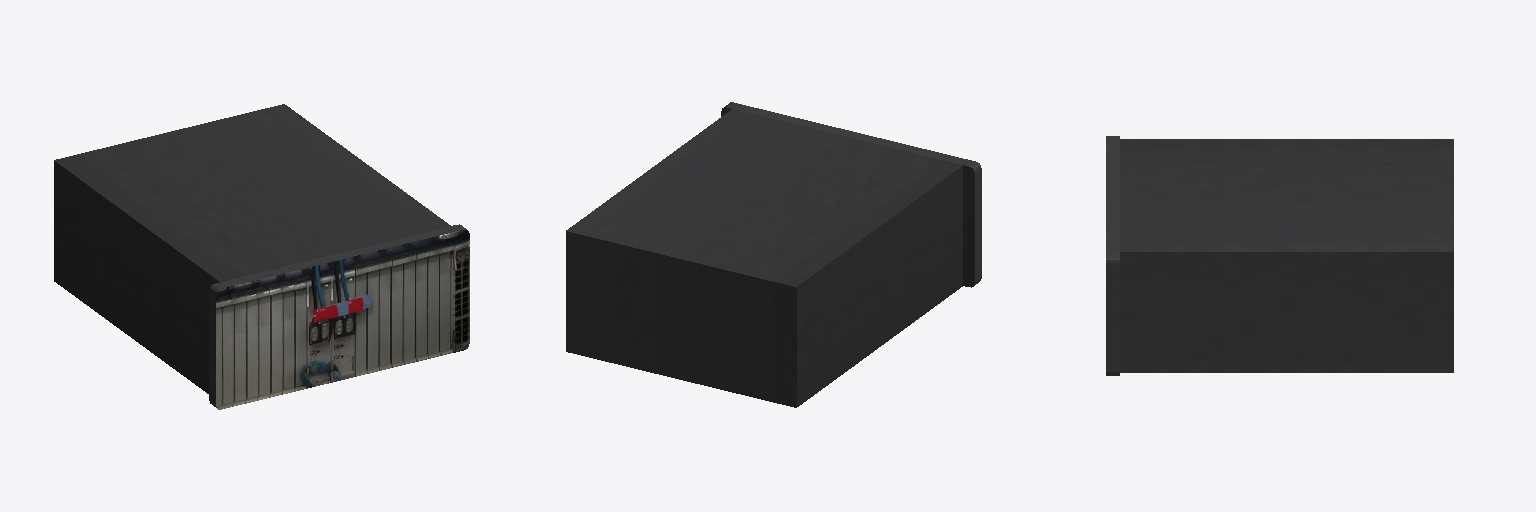
3 views of the same model, side by side, from view 1: azimuth 30°, elevation 25°; view 2: azimuth 150°, elevation 25°; view 3: azimuth 270°, elevation 25° (orthographic).
Parts seen in each view (by area): view 1: Box001; view 2: Box001; view 3: Box001.
Part boxes in pixels (x1,y1,x2,y2): Box001: (54, 104, 469, 409); Box001: (566, 102, 981, 407); Box001: (1106, 136, 1453, 375).
Bounding box in the file's own units: 44.8 × 20.4 × 53.18.
1 materials, 1 textured.